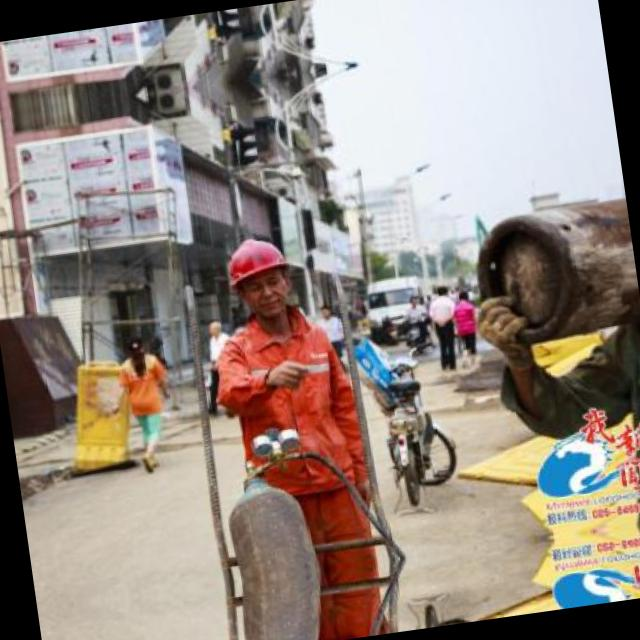helmet: (217, 222, 307, 328)
